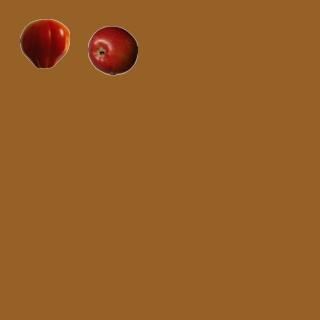Apple Braeburn: (87, 25, 137, 75)
Tomato 1: (19, 18, 69, 68)
